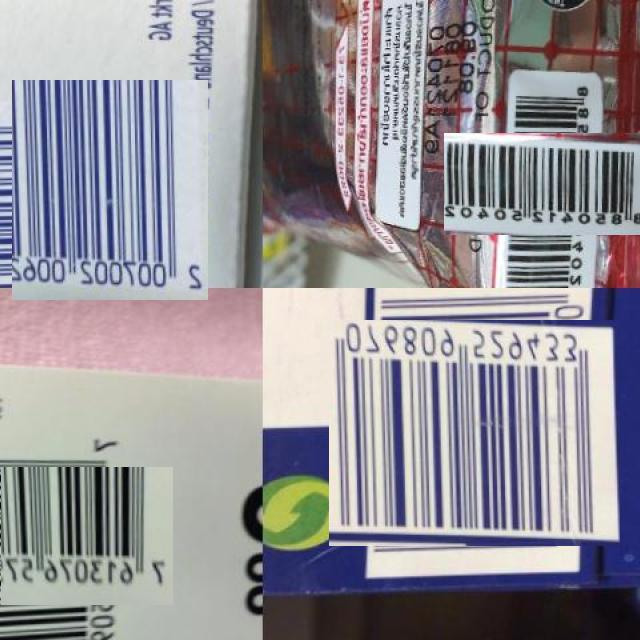Barcode: (345, 304, 604, 563), (6, 85, 214, 294), (0, 449, 156, 623), (470, 106, 626, 261)
